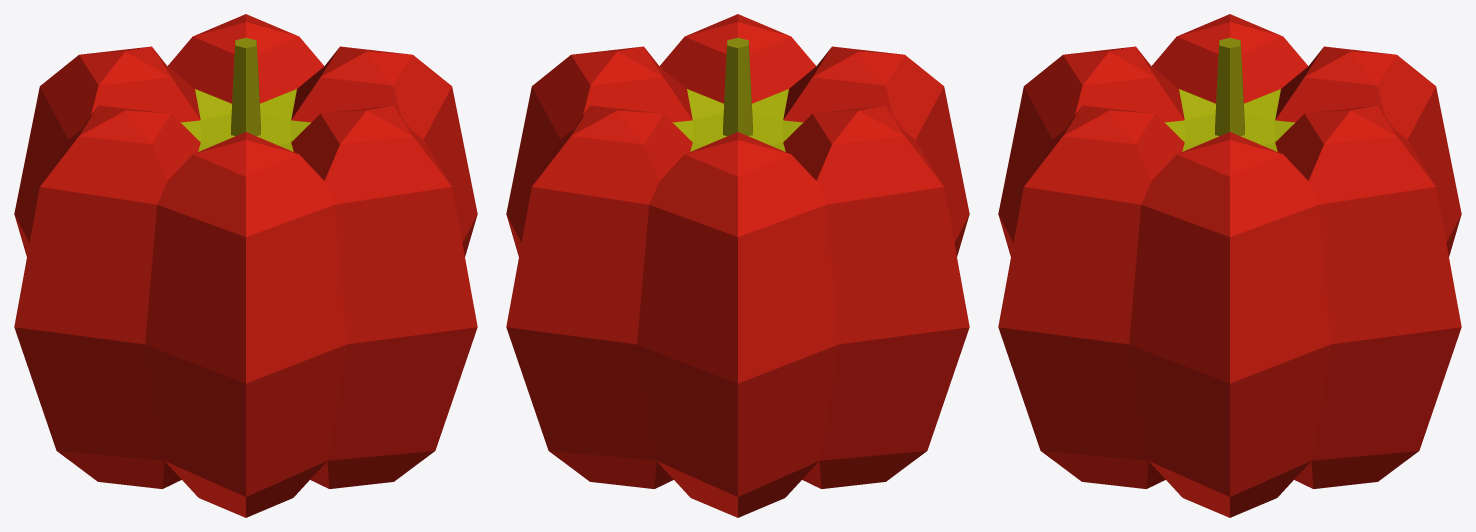
Rendered from Pepper_Red.fbx.
3 views of the same model, side by side, from view 1: azimuth 30°, elevation 25°; view 2: azimuth 150°, elevation 25°; view 3: azimuth 270°, elevation 25° (orthographic).
Parts seen in each view (by area): view 1: Pepper_Red_Top, Pepper_Red_Down, Pepper_Red_All; view 2: Pepper_Red_All, Pepper_Red_Top, Pepper_Red_Down; view 3: Pepper_Red_All, Pepper_Red_Top, Pepper_Red_Down.
Boxes of the visible parts, x1,y1,x2,y2 form: Pepper_Red_Top: [14, 14, 477, 383]; Pepper_Red_Down: [14, 215, 477, 517]; Pepper_Red_All: [40, 14, 448, 501]; Pepper_Red_All: [506, 14, 969, 517]; Pepper_Red_Top: [506, 14, 969, 383]; Pepper_Red_Down: [506, 215, 969, 517]; Pepper_Red_All: [1006, 14, 1461, 517]; Pepper_Red_Top: [998, 14, 1461, 383]; Pepper_Red_Down: [998, 215, 1313, 517].
Size of the model in its own units: 6.98 by 5.95 by 6.04.
